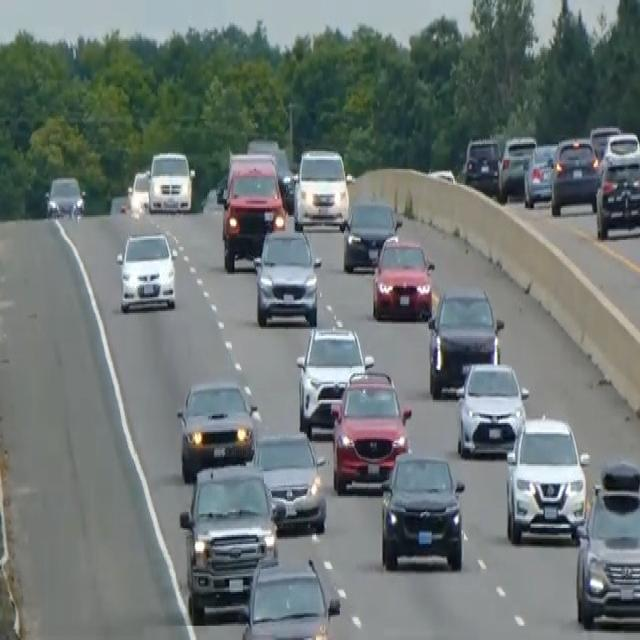car: (504, 412, 589, 544), (573, 459, 639, 629), (379, 448, 465, 571), (330, 367, 412, 492), (295, 324, 374, 436), (426, 283, 503, 397), (176, 377, 261, 480), (240, 553, 341, 638), (252, 429, 327, 535), (455, 359, 529, 459), (252, 224, 321, 327), (371, 233, 434, 322), (115, 229, 176, 313), (293, 146, 351, 228), (341, 197, 398, 272), (595, 148, 639, 238), (550, 135, 599, 215), (246, 135, 294, 208), (497, 133, 537, 201), (462, 133, 502, 194), (522, 142, 556, 208), (44, 174, 85, 219), (589, 122, 621, 162), (127, 169, 150, 211)
jeep: (178, 460, 278, 620), (218, 149, 286, 272)
minivan: (147, 148, 196, 215)
